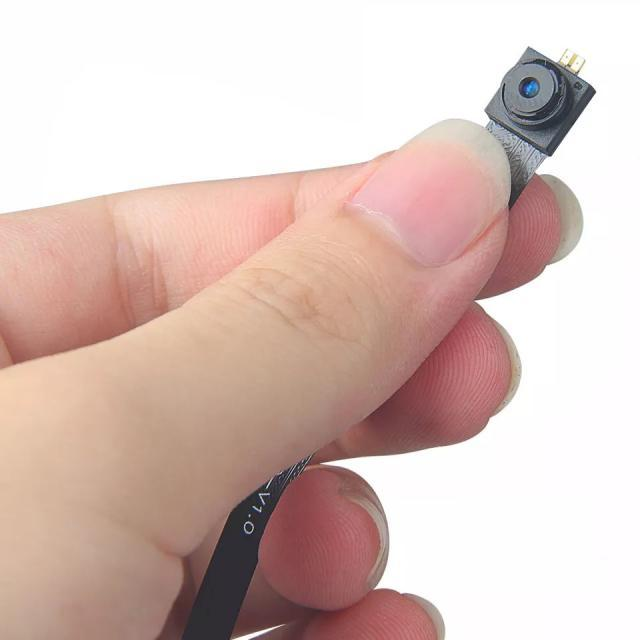hidden camera: (504, 64, 555, 114)
